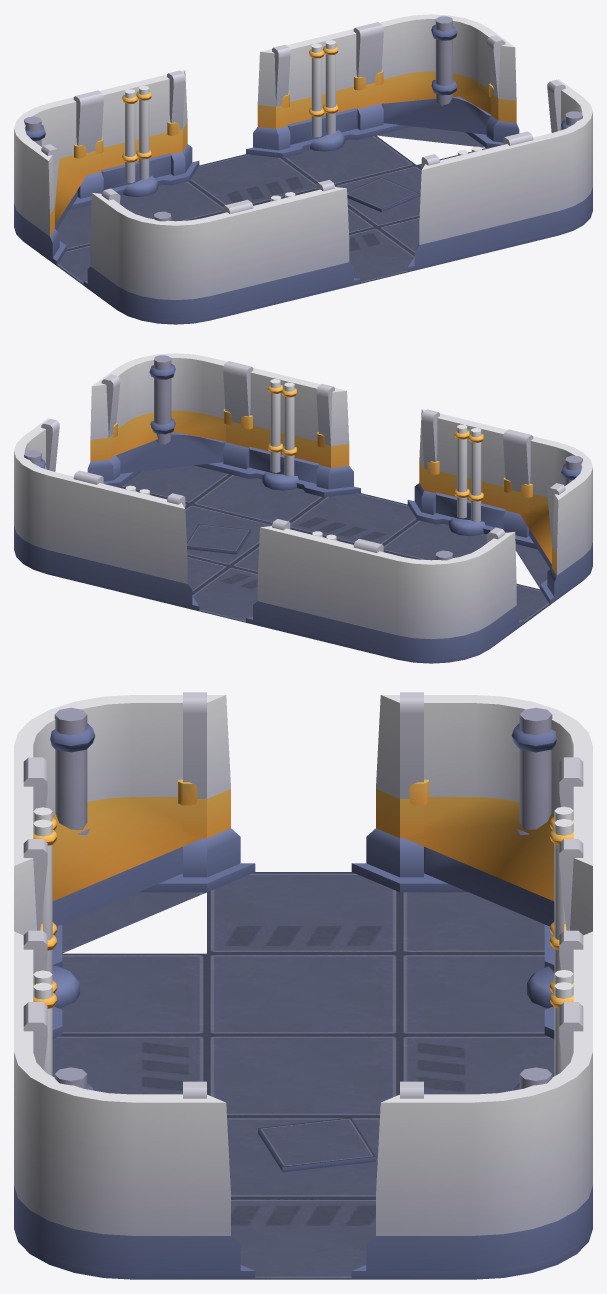
The model's file is kenney-space-modular-room-wide.glb.
The picture shows the model from 3 angles, top to bottom: view 1: azimuth 30°, elevation 25°; view 2: azimuth 150°, elevation 25°; view 3: azimuth 270°, elevation 25°; orthographic projection. The views are drawn at different scales.
Parts seen in each view (by area): view 1: room-wide; view 2: room-wide; view 3: room-wide.
Boxes of the visible parts, <box> form: room-wide: <box>14,14,592,324</box>; room-wide: <box>14,353,592,663</box>; room-wide: <box>14,692,592,1279</box>.
Size of the model in its own units: 20 by 4.25 by 12.
1 material, 1 textured.
